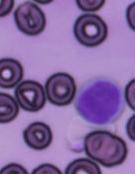L: (74, 76, 126, 127)
